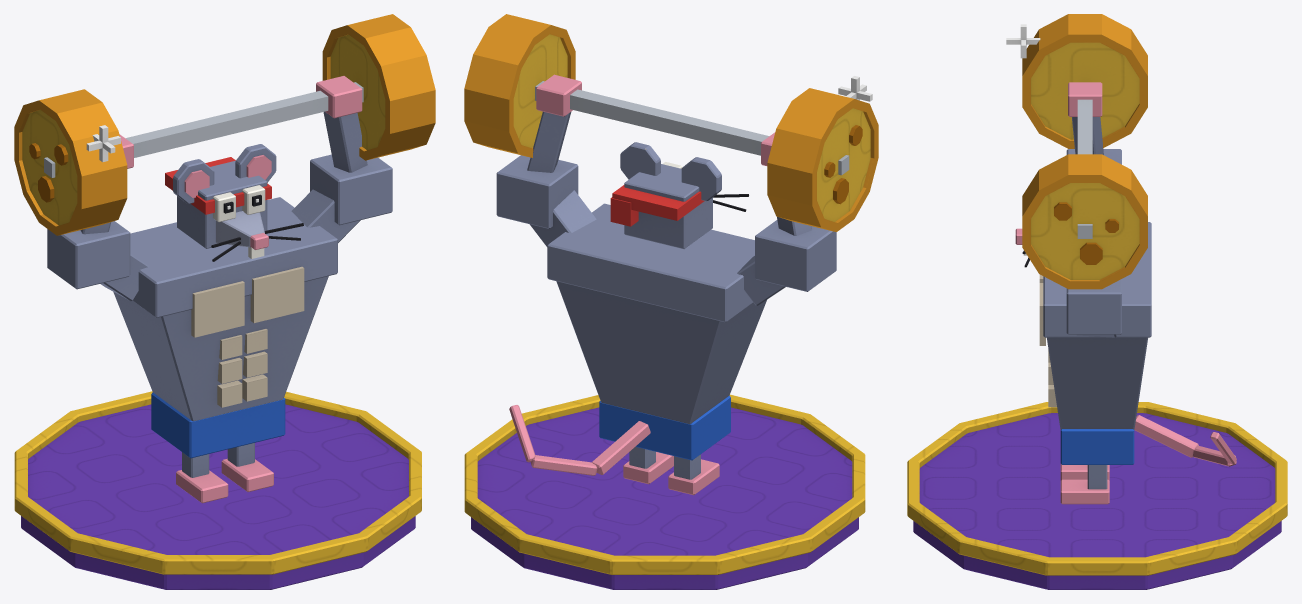
Rendered from BuffRat.fbx.
The picture shows the model from 3 angles, left to right: view 1: azimuth 30°, elevation 25°; view 2: azimuth 150°, elevation 25°; view 3: azimuth 270°, elevation 25°; orthographic projection. The views are drawn at different scales.
Visible parts, largest first — view 1: Art_BuffRat_Stand, Art_BuffRat_Body, Art_BuffRat_Barbell, Art_BuffRat_ArmR, Art_BuffRat_Head, Art_BuffRat_ArmL, Art_BuffRat_LegL, Art_BuffRat_LegR, Art_BuffRat_EarL, Art_BuffRat_EarR; view 2: Art_BuffRat_Stand, Art_BuffRat_Body, Art_BuffRat_Barbell, Art_BuffRat_ArmR, Art_BuffRat_Head, Art_BuffRat_ArmL, Art_BuffRat_Tail, Art_BuffRat_LegL, Art_BuffRat_LegR, Art_BuffRat_EarL, Art_BuffRat_EarR; view 3: Art_BuffRat_Stand, Art_BuffRat_Barbell, Art_BuffRat_Body, Art_BuffRat_ArmR, Art_BuffRat_Tail, Art_BuffRat_ArmL, Art_BuffRat_LegR.
Part boxes in pixels (x1=…): Art_BuffRat_Stand: x1=14, y1=125, x2=421, y2=589; Art_BuffRat_Body: x1=113, y1=197, x2=337, y2=458; Art_BuffRat_Barbell: x1=14, y1=14, x2=435, y2=235; Art_BuffRat_ArmR: x1=291, y1=76, x2=392, y2=242; Art_BuffRat_Head: x1=165, y1=157, x2=303, y2=261; Art_BuffRat_ArmL: x1=47, y1=134, x2=148, y2=300; Art_BuffRat_LegL: x1=176, y1=452, x2=228, y2=503; Art_BuffRat_LegR: x1=221, y1=443, x2=273, y2=491; Art_BuffRat_EarL: x1=173, y1=159, x2=214, y2=203; Art_BuffRat_EarR: x1=235, y1=144, x2=276, y2=182; Art_BuffRat_Stand: x1=464, y1=76, x2=872, y2=589; Art_BuffRat_Body: x1=547, y1=203, x2=766, y2=460; Art_BuffRat_Barbell: x1=464, y1=14, x2=878, y2=231; Art_BuffRat_ArmR: x1=496, y1=74, x2=596, y2=246; Art_BuffRat_Head: x1=610, y1=162, x2=748, y2=248; Art_BuffRat_ArmL: x1=737, y1=132, x2=836, y2=305; Art_BuffRat_Tail: x1=509, y1=405, x2=650, y2=475; Art_BuffRat_LegL: x1=668, y1=454, x2=719, y2=495; Art_BuffRat_LegR: x1=623, y1=447, x2=673, y2=484; Art_BuffRat_EarL: x1=681, y1=157, x2=721, y2=201; Art_BuffRat_EarR: x1=620, y1=142, x2=660, y2=179; Art_BuffRat_Stand: x1=907, y1=24, x2=1287, y2=589; Art_BuffRat_Barbell: x1=1022, y1=14, x2=1147, y2=289; Art_BuffRat_Body: x1=1039, y1=222, x2=1151, y2=464; Art_BuffRat_ArmR: x1=1066, y1=279, x2=1121, y2=337; Art_BuffRat_Tail: x1=1134, y1=415, x2=1236, y2=466; Art_BuffRat_ArmL: x1=1066, y1=82, x2=1121, y2=164; Art_BuffRat_LegR: x1=1060, y1=465, x2=1109, y2=504.
Bounding box in the file's own units: 3.11 × 3.75 × 3.09.
